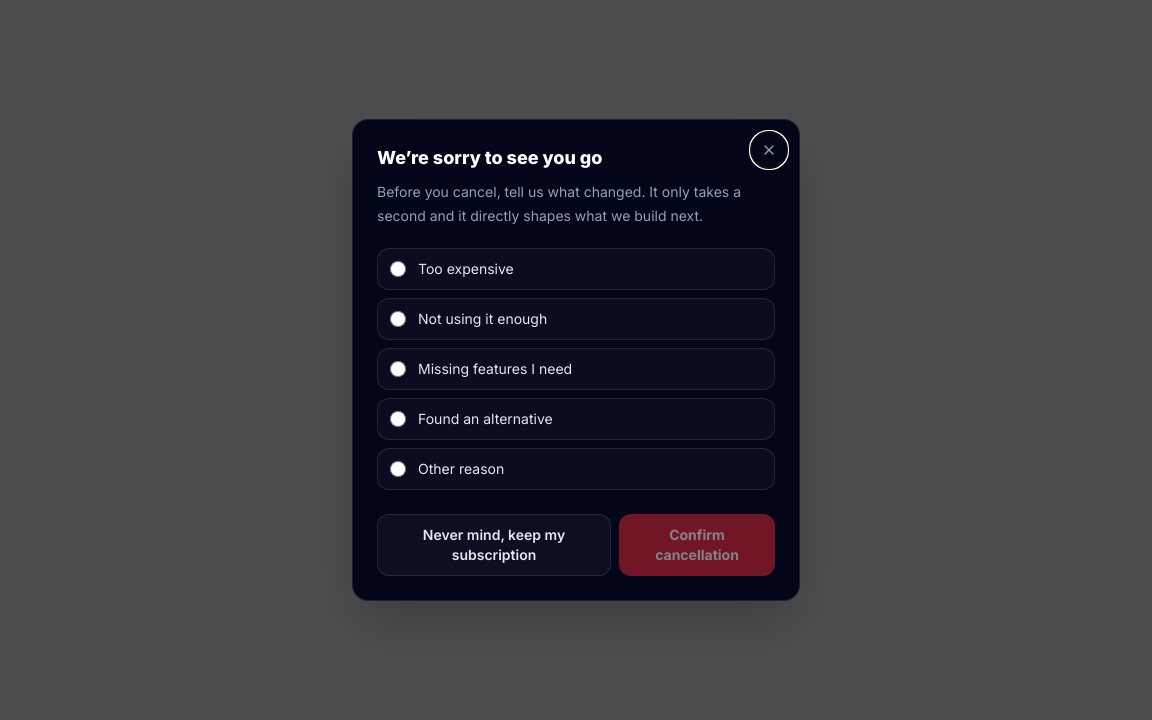
Scenario: CancelReasonModal › disables the confirm button until a reason is selected
Expected: the button "Confirm cancellation" is disabled, left=619, top=514, right=775, bottom=576
Click the radio button labelled "Too expensive": (398, 269) left=390, top=261, right=406, bottom=277
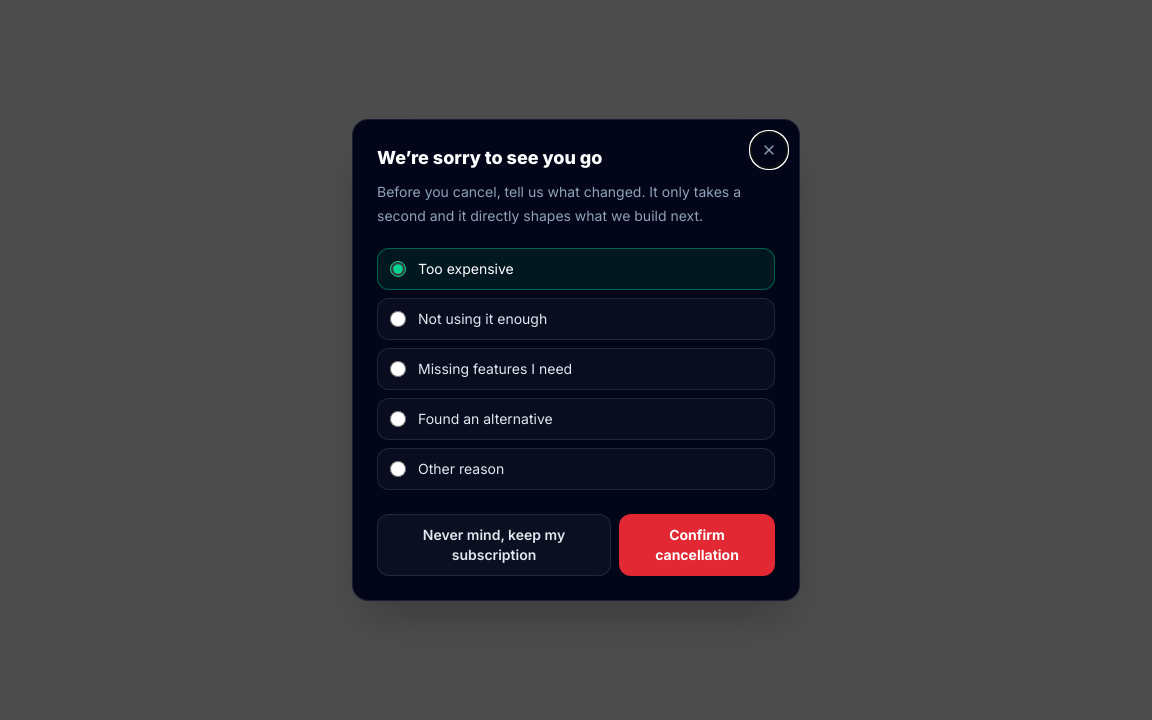
Now the button "Confirm cancellation" is enabled, box left=619, top=514, right=775, bottom=576
